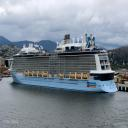cruises: (8, 34, 119, 96)
